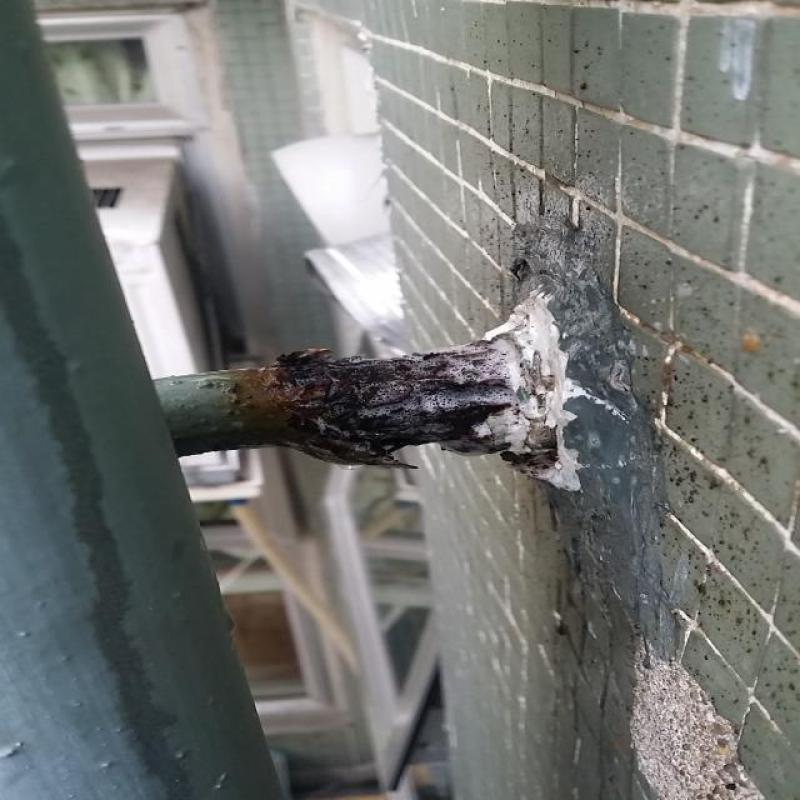corrosion: (230, 320, 488, 442)
